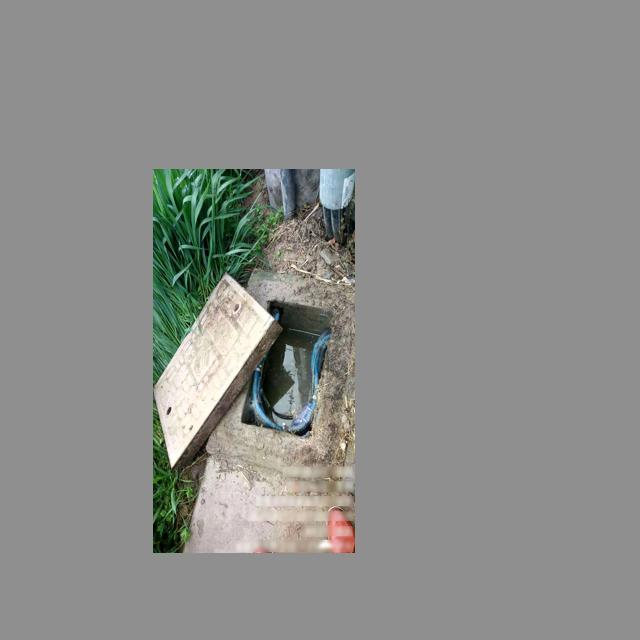uncovered: (154, 268, 354, 475)
